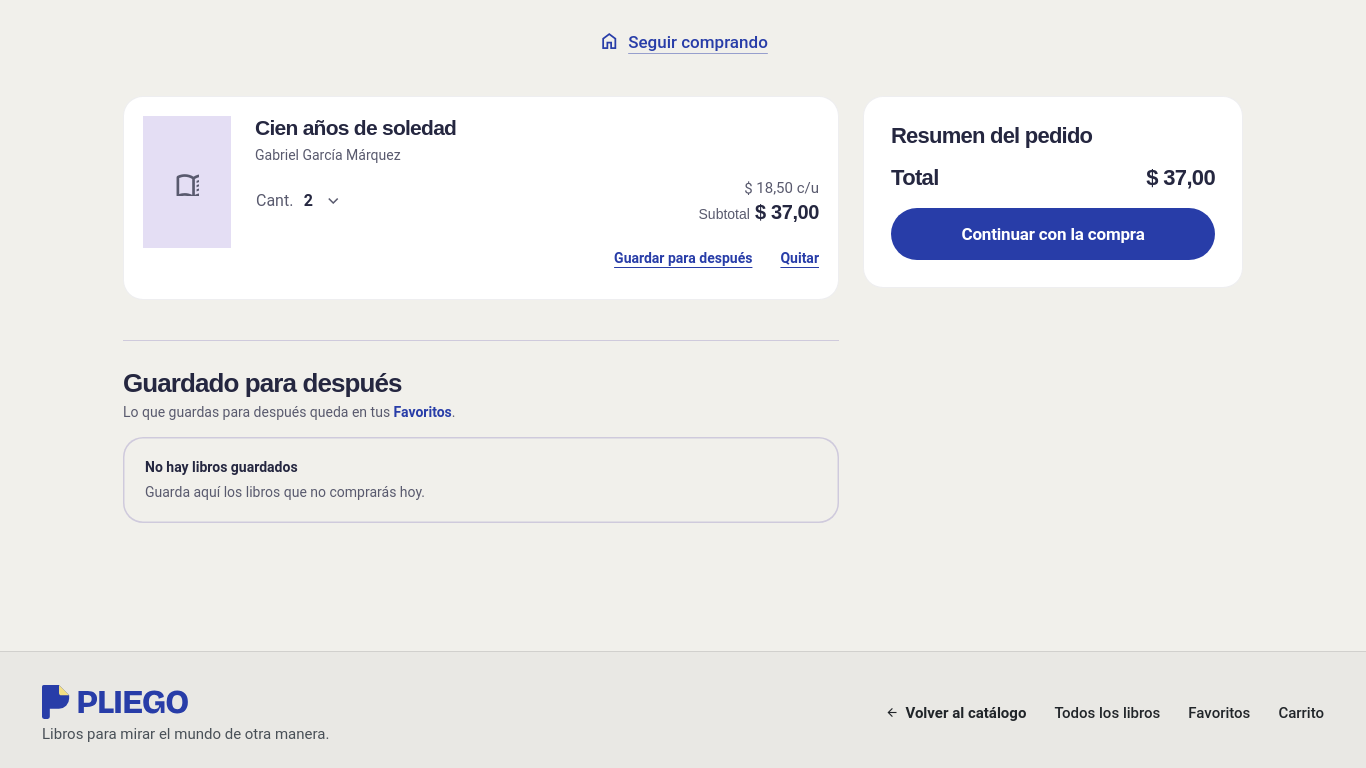
Scenario: CartPage › removes an item with DELETE and offers to put it back with its quantity
Step 1. Click the button with aria-label "Quitar Cien años de soledad del carrito" → (800, 258), box left=780, top=236, right=819, bottom=280
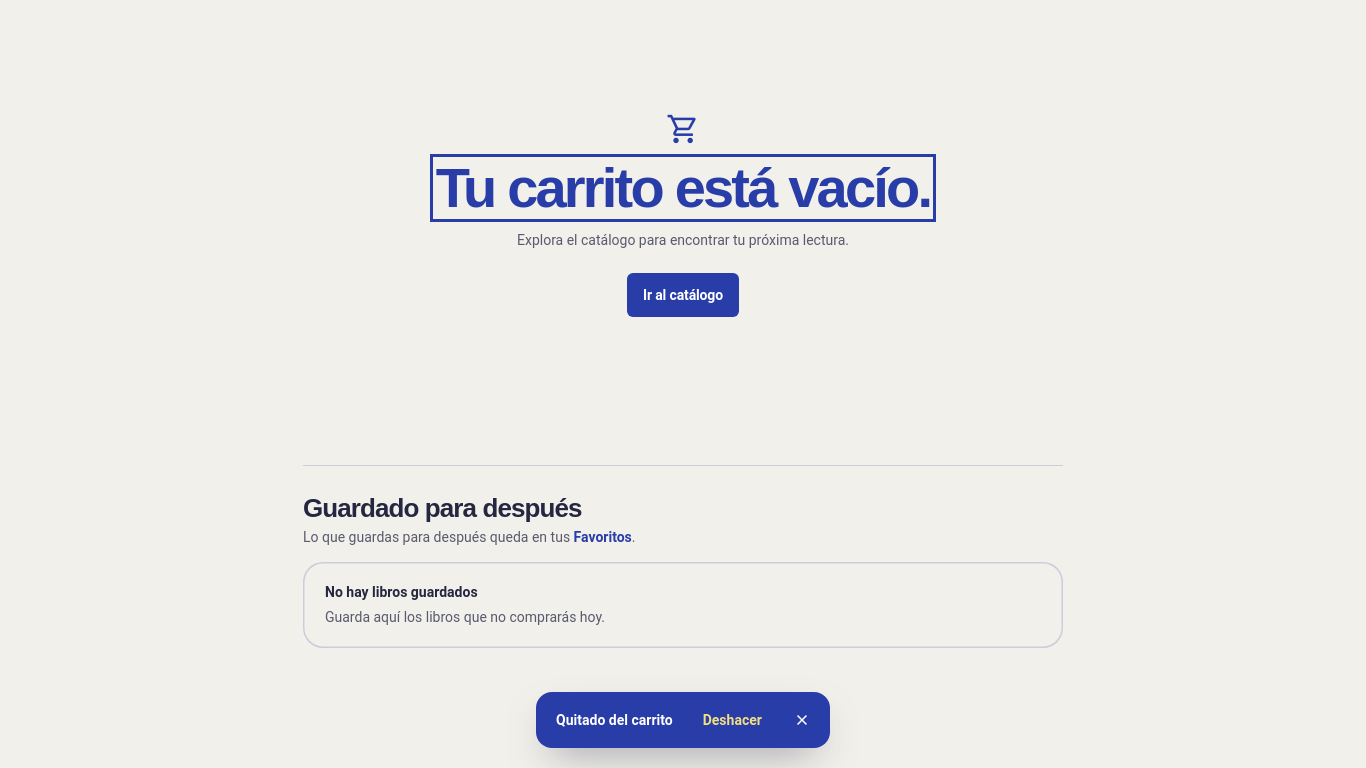
Expected: the text "Quitado del carrito" is shown, left=556, top=710, right=814, bottom=728
Step 2. Click the button "Deshacer" → (732, 720), box left=689, top=698, right=776, bottom=742
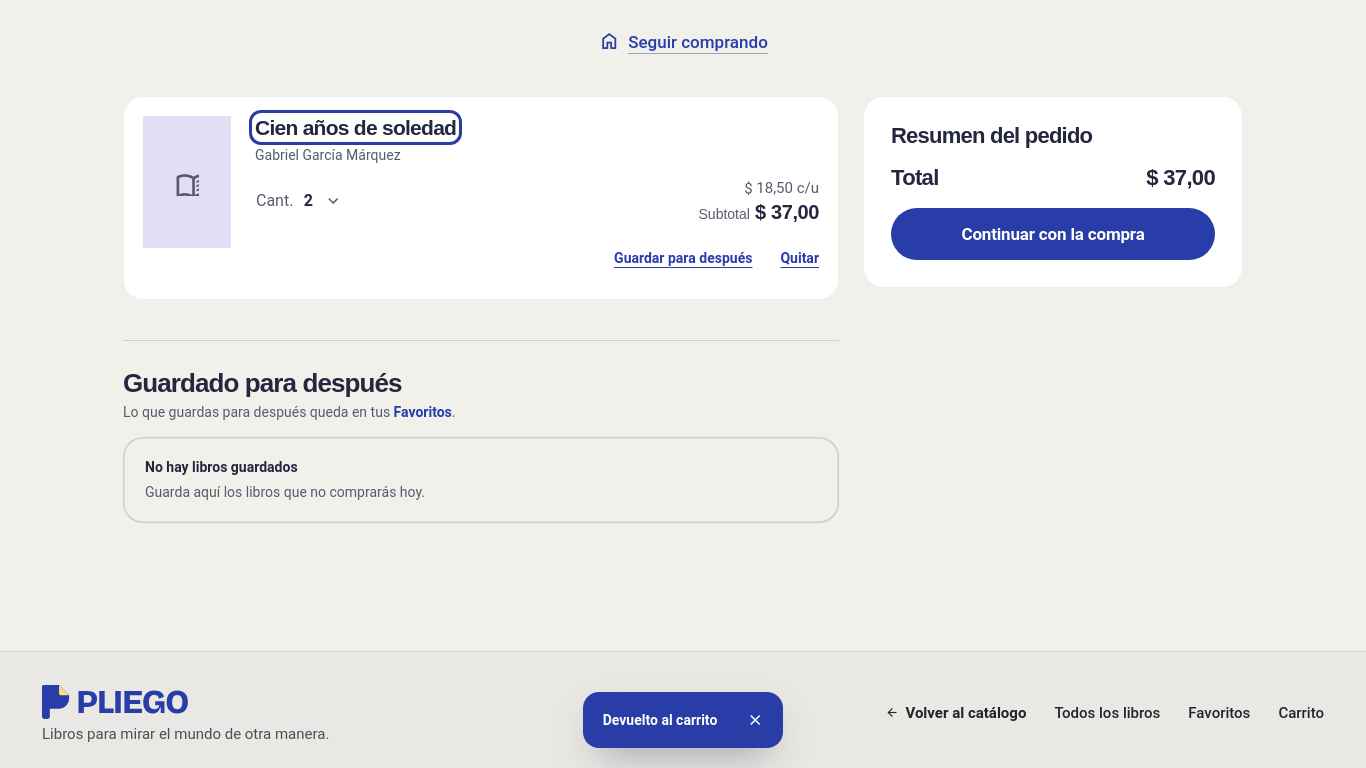
Expected: the text "Devuelto al carrito" is shown, left=603, top=710, right=858, bottom=728
